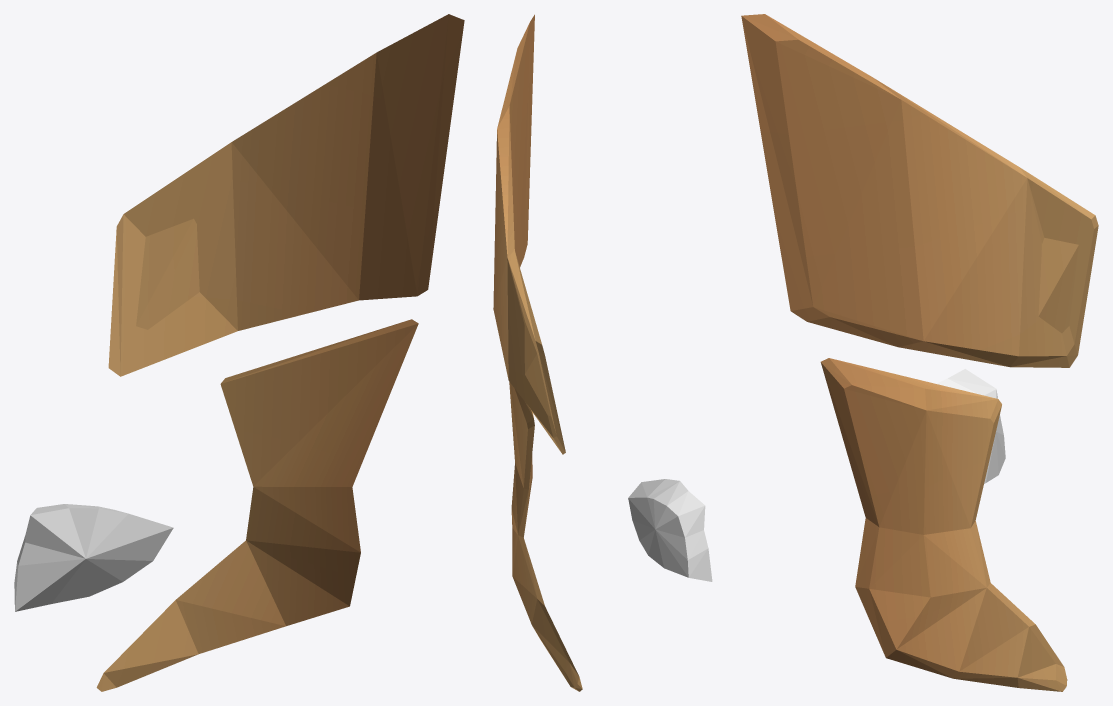
The model's file is CharSkyKid_Mask_ElderSunsetA_02.glb.
3 views of the same model, side by side, from view 1: azimuth 30°, elevation 25°; view 2: azimuth 150°, elevation 25°; view 3: azimuth 270°, elevation 25° (orthographic). The views are drawn at different scales.
Parts seen in each view (by area): view 1: CharSkyKid_Mask_ElderSunsetA_02; view 2: CharSkyKid_Mask_ElderSunsetA_02; view 3: CharSkyKid_Mask_ElderSunsetA_02.
Part boxes in pixels (x1,y1,x2,y2): CharSkyKid_Mask_ElderSunsetA_02: [14, 14, 464, 691]; CharSkyKid_Mask_ElderSunsetA_02: [493, 14, 712, 691]; CharSkyKid_Mask_ElderSunsetA_02: [741, 14, 1098, 691].
Bounding box in the file's own units: 1.06 × 2.16 × 0.8949.
Materials: 1 (1 with a texture image).
